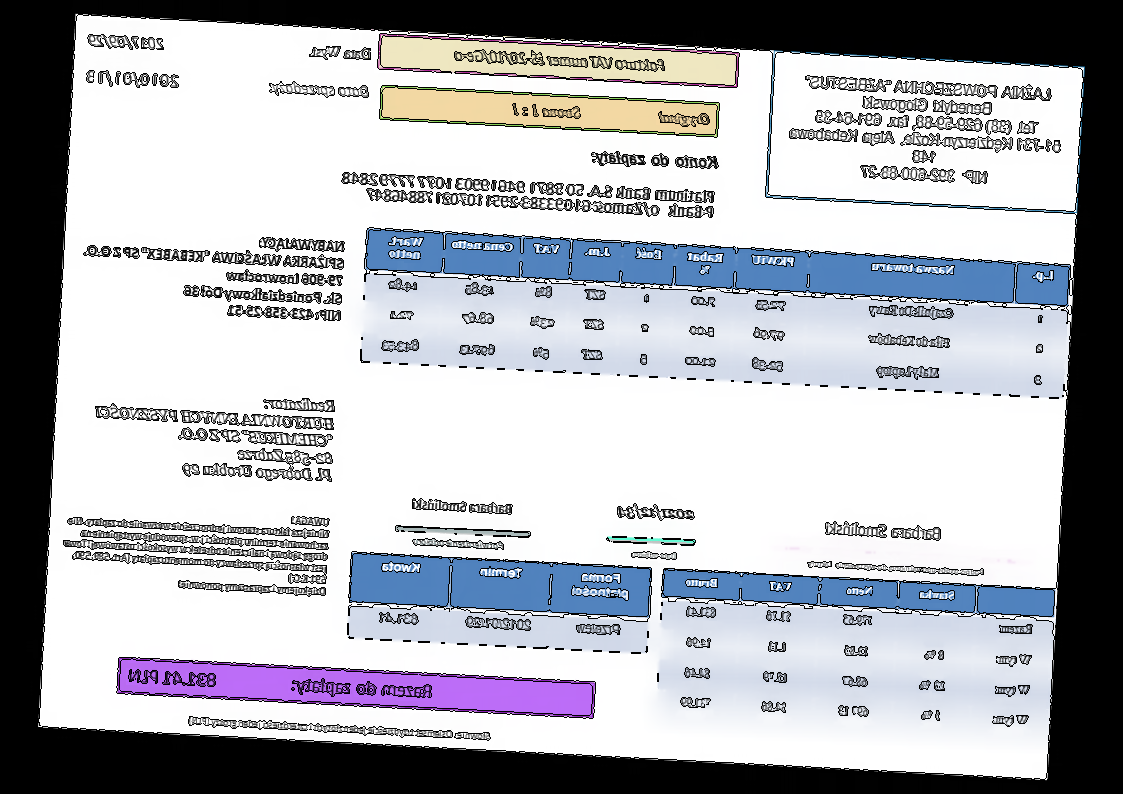Table: (359, 227, 1072, 400), (654, 567, 1057, 740), (346, 550, 653, 656)
TextBox: (785, 69, 1067, 191), (59, 502, 331, 599), (79, 226, 347, 324), (89, 384, 338, 484), (338, 168, 717, 221), (126, 665, 435, 703), (185, 713, 494, 745), (509, 100, 713, 130), (452, 46, 668, 74), (805, 557, 987, 579), (588, 146, 721, 174), (823, 518, 943, 542), (267, 78, 372, 101), (86, 68, 181, 92), (410, 496, 515, 516), (615, 501, 696, 526), (87, 31, 167, 53), (413, 535, 507, 552), (305, 42, 374, 64), (630, 548, 678, 561)
